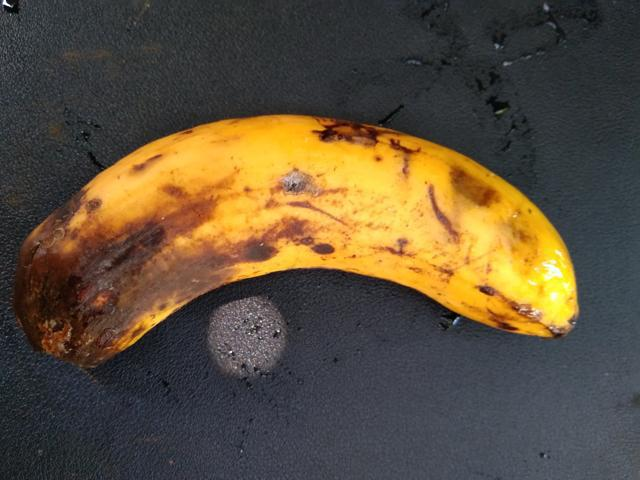rotten: (17, 88, 604, 422)
